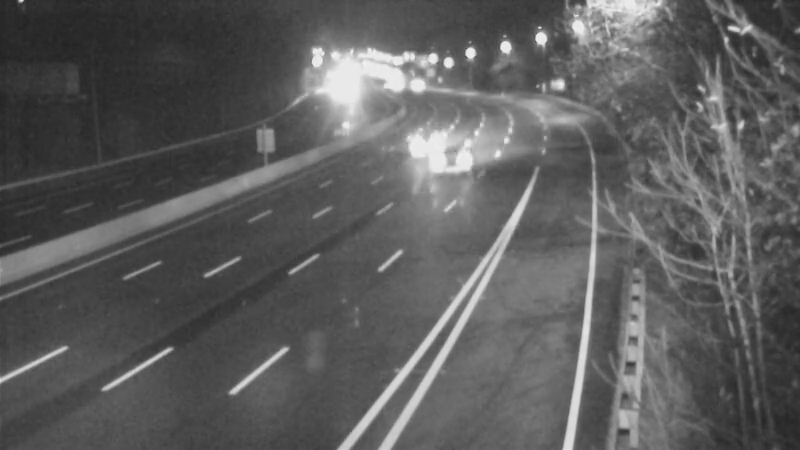vehicle: (407, 121, 487, 201), (388, 57, 438, 107), (412, 111, 462, 161)
